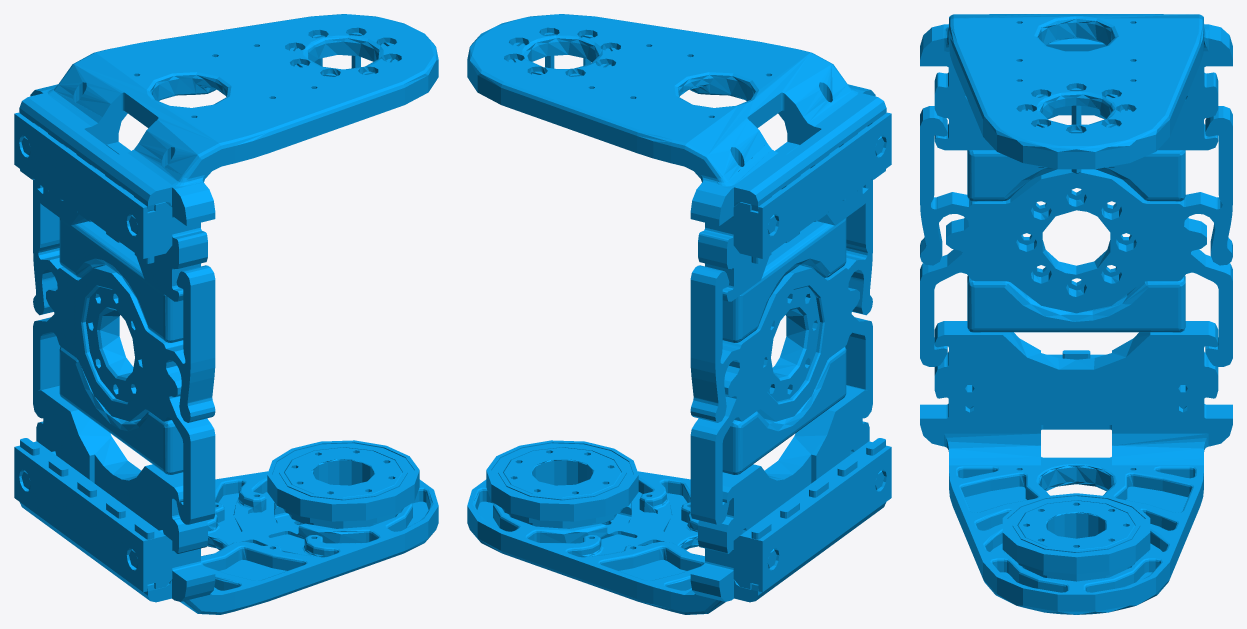
The model's file is la_flg_c_wb_large.dae.
3 views of the same model, side by side, from view 1: azimuth 30°, elevation 25°; view 2: azimuth 150°, elevation 25°; view 3: azimuth 270°, elevation 25° (orthographic).
Visible parts, largest first — view 1: la_flg_c_wb_large; view 2: la_flg_c_wb_large; view 3: la_flg_c_wb_large.
Boxes of the visible parts, x1=… form: la_flg_c_wb_large: x1=14, y1=14, x2=438, y2=614; la_flg_c_wb_large: x1=467, y1=14, x2=891, y2=614; la_flg_c_wb_large: x1=920, y1=14, x2=1232, y2=614.
Size of the model in its own units: 83.71 by 66 by 109.
